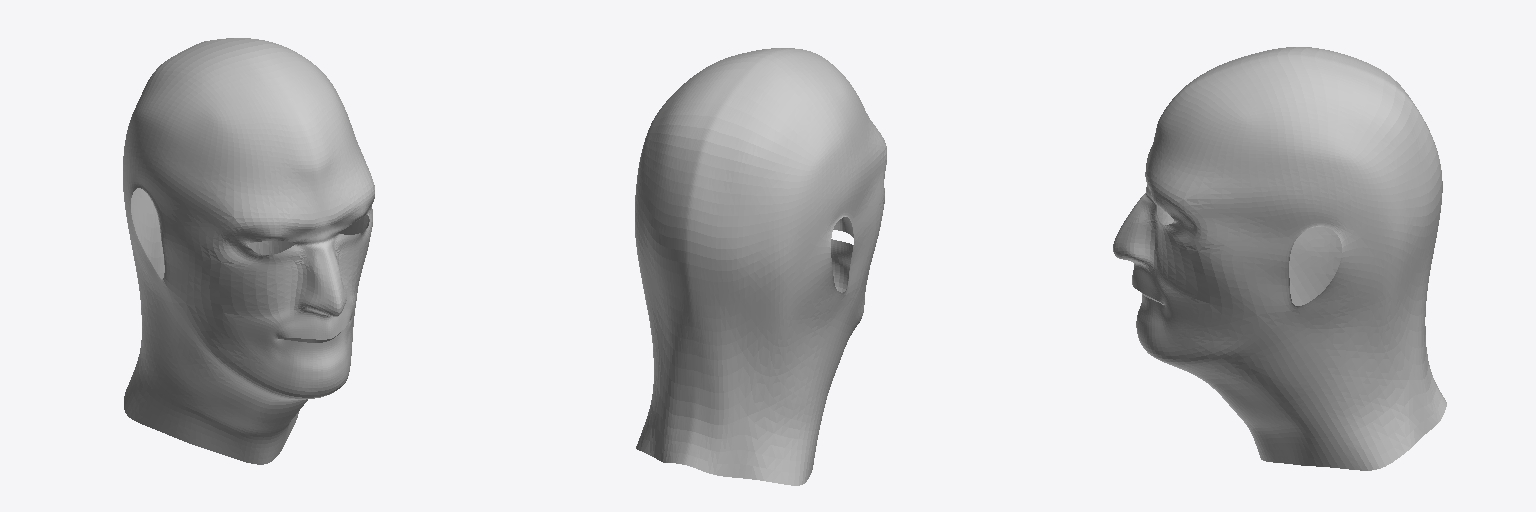
Rendered from tata.obj.
3 renders of one model, left to right at view 1: azimuth 30°, elevation 25°; view 2: azimuth 150°, elevation 25°; view 3: azimuth 270°, elevation 25°, orthographic.
Visible parts, largest first — view 1: Plane.001_Plane.000; view 2: Plane.001_Plane.000; view 3: Plane.001_Plane.000.
Boxes of the visible parts, box(x1,y1,x2,y2) form: Plane.001_Plane.000: box(123, 38, 374, 464); Plane.001_Plane.000: box(635, 48, 886, 485); Plane.001_Plane.000: box(1113, 47, 1446, 470).
Bounding box in the file's own units: 5.2 × 10.58 × 7.98.